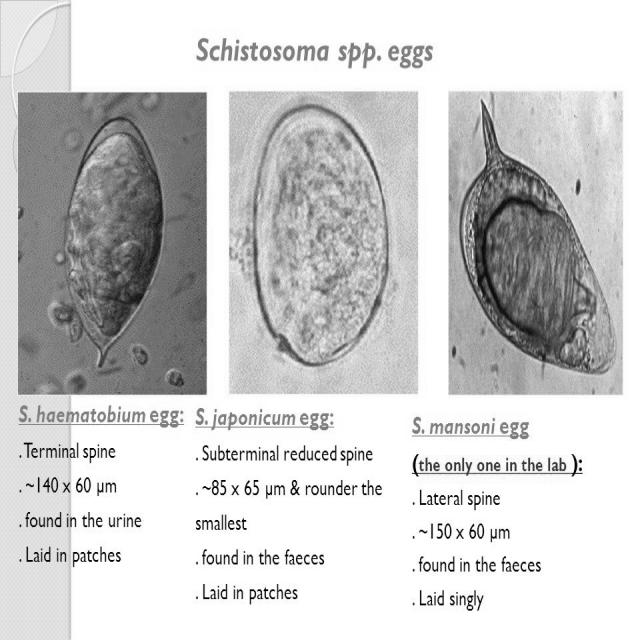Schistosoma: (454, 98, 619, 380), (249, 102, 401, 376), (63, 107, 176, 369)
